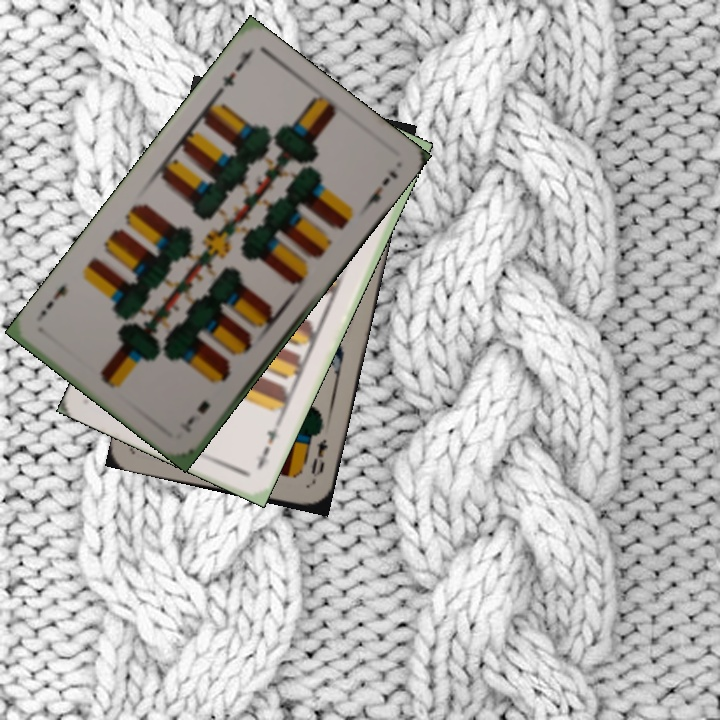E7: (212, 47, 255, 98), (252, 420, 283, 473), (177, 396, 213, 435)
EO: (307, 435, 331, 486)
